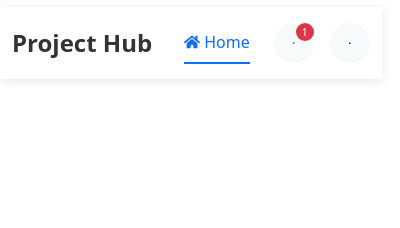
Header Component › shows user dropdown when authenticated
// Open the dropdown first
Click the 2nd button.
click(350, 43)  # box [330,23,370,63]
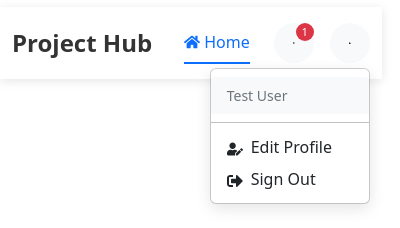
Now the text "Test User" is shown, box [227,86,287,105]
